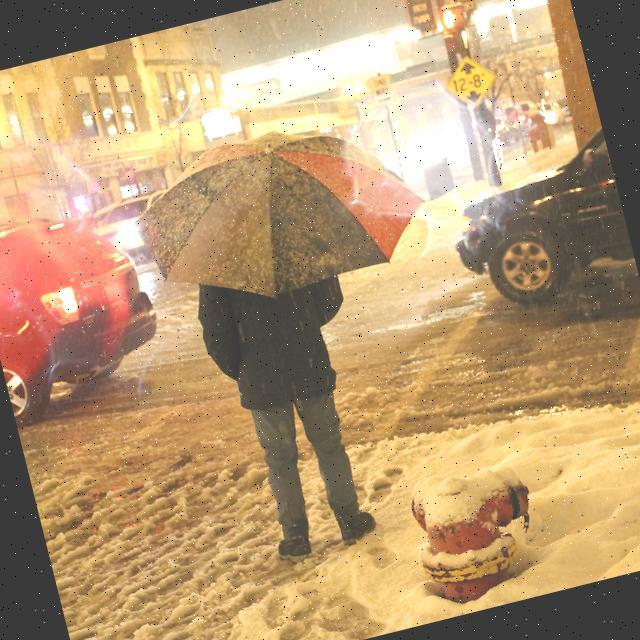fire_hydrant: (400, 452, 550, 612)
